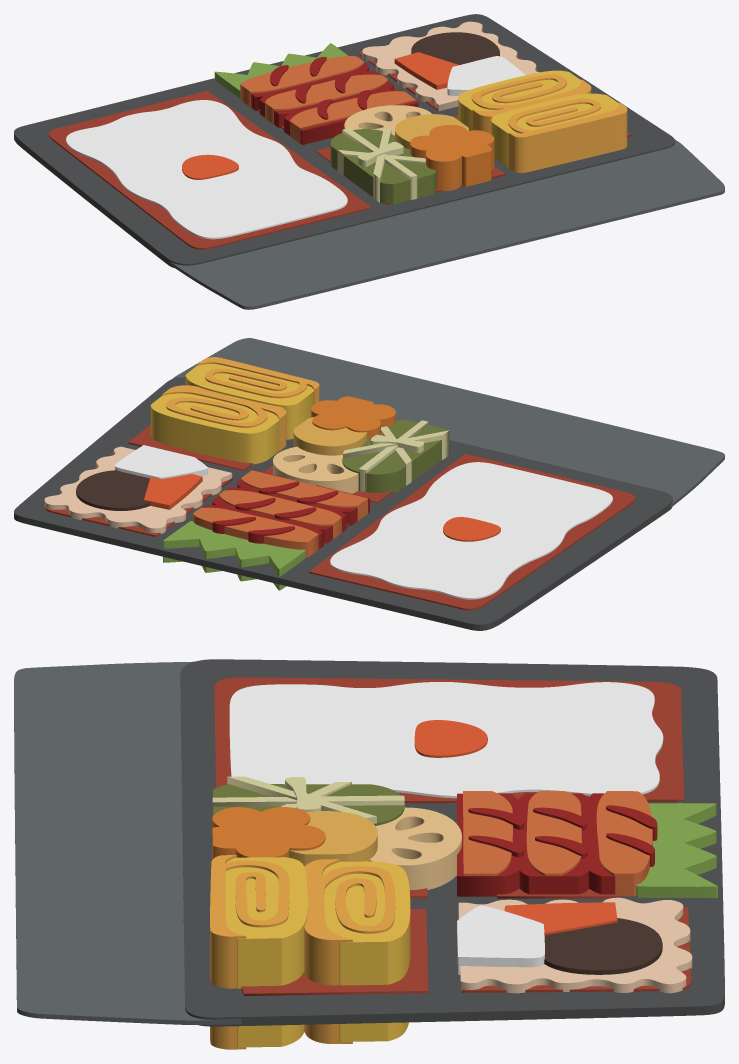
File: emoji_u1f371.glb
3 views of the same model, one above another, from view 1: azimuth 30°, elevation 25°; view 2: azimuth 150°, elevation 25°; view 3: azimuth 270°, elevation 25° (orthographic). The views are drawn at different scales.
Parts seen in each view (by area): view 1: emoji_u1f371; view 2: emoji_u1f371; view 3: emoji_u1f371.
Part boxes in pixels (x1,y1,x2,y2): emoji_u1f371: (14, 14, 724, 309); emoji_u1f371: (14, 338, 724, 630); emoji_u1f371: (14, 659, 724, 1049).
Bounding box in the file's own units: 0.034 × 0.005 × 0.0285.
